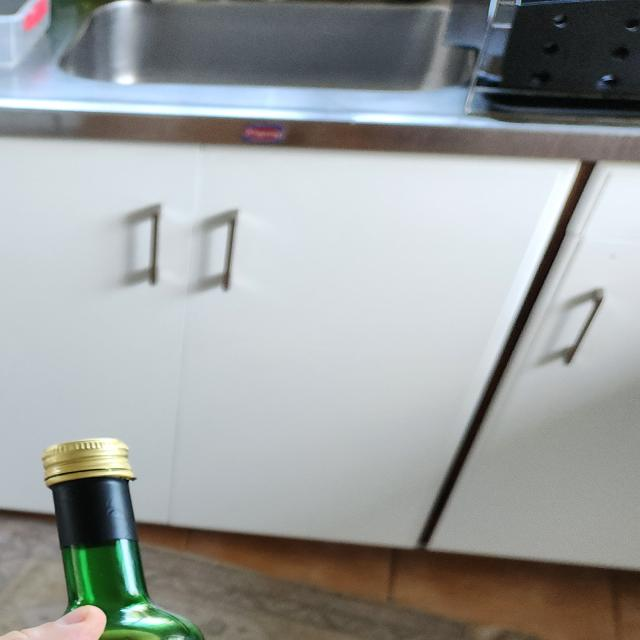balsamic vinegar: (38, 435, 265, 640)
